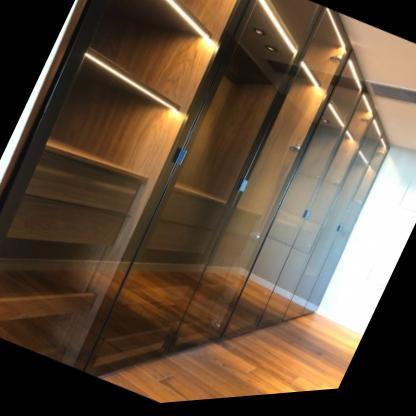Transparent Closet: (0, 0, 387, 379)
